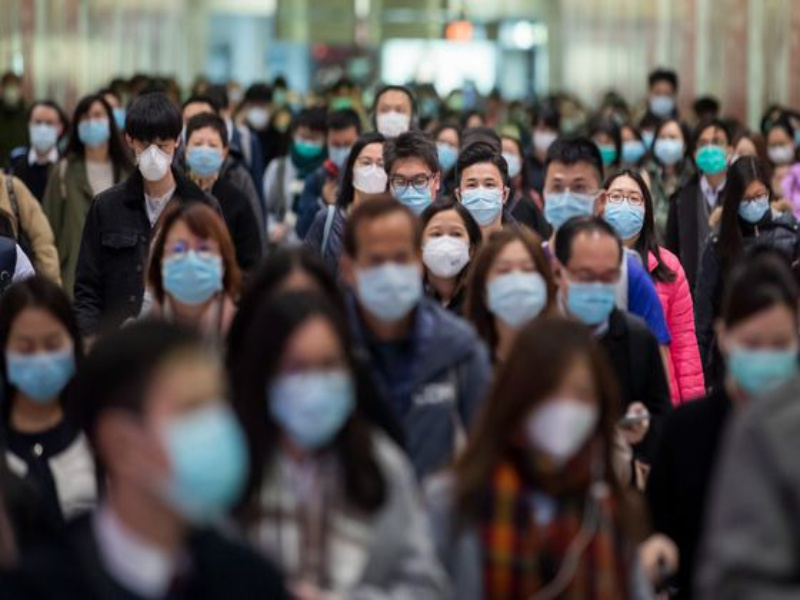ManaoArotava: (1, 273, 90, 431), (337, 198, 435, 339), (152, 203, 235, 328), (560, 217, 635, 342), (540, 134, 607, 233), (119, 95, 181, 192), (378, 130, 442, 222), (599, 167, 661, 253), (453, 141, 510, 230)
